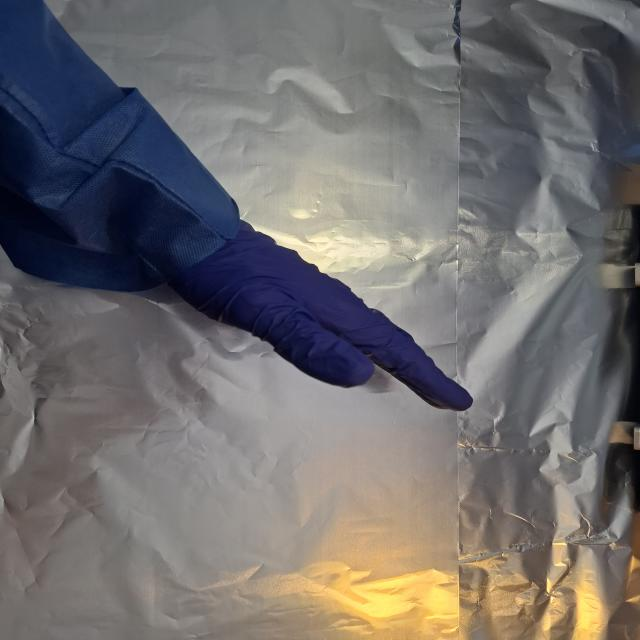glove_on: (165, 216, 476, 414)
